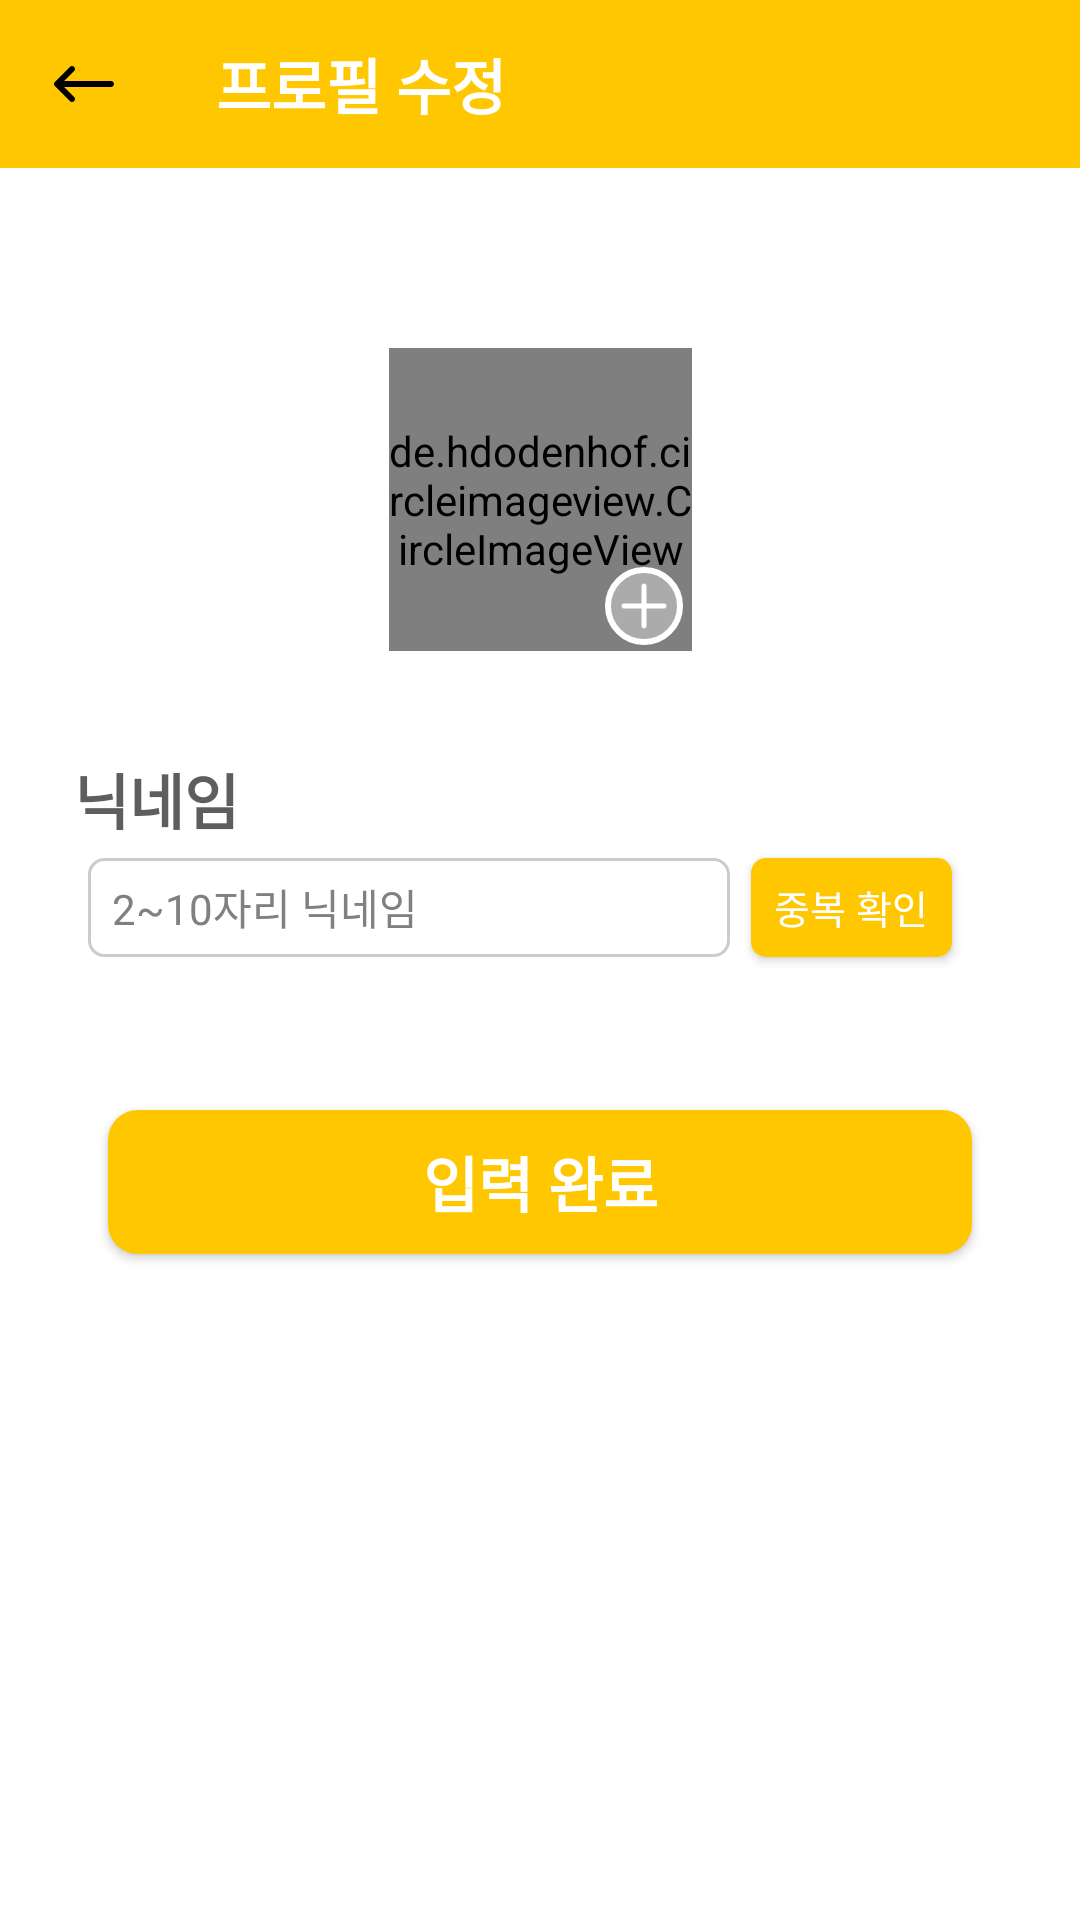

Locate icon controls on the screen. Image size 1080px x 1920px, boxes as (left=x1, top=y1, right=x2, bottom=y2).
profile plus: (left=605, top=567, right=683, bottom=645)
